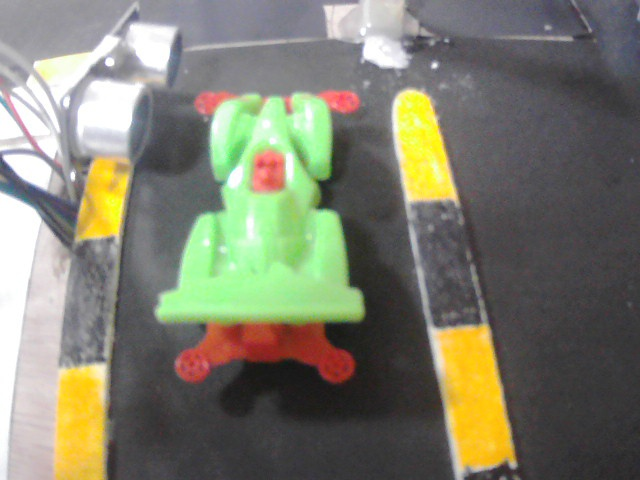car: (190, 80, 374, 391)
uno_breadboard: (54, 0, 191, 165)
